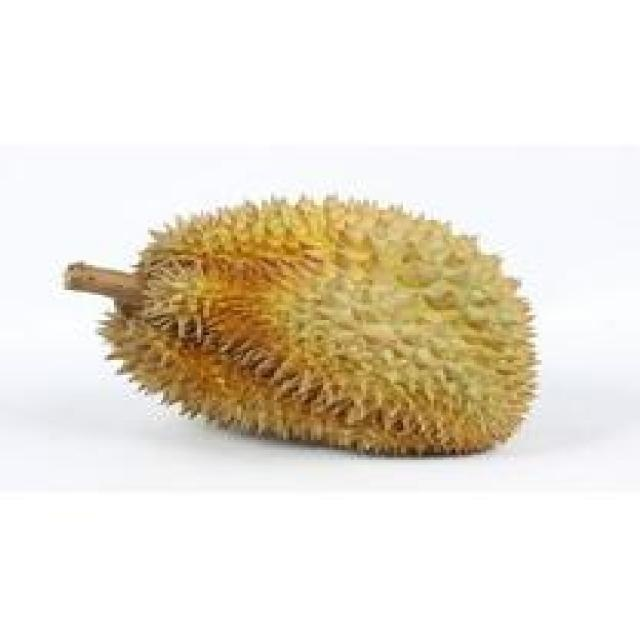agrume: (96, 170, 563, 480)
